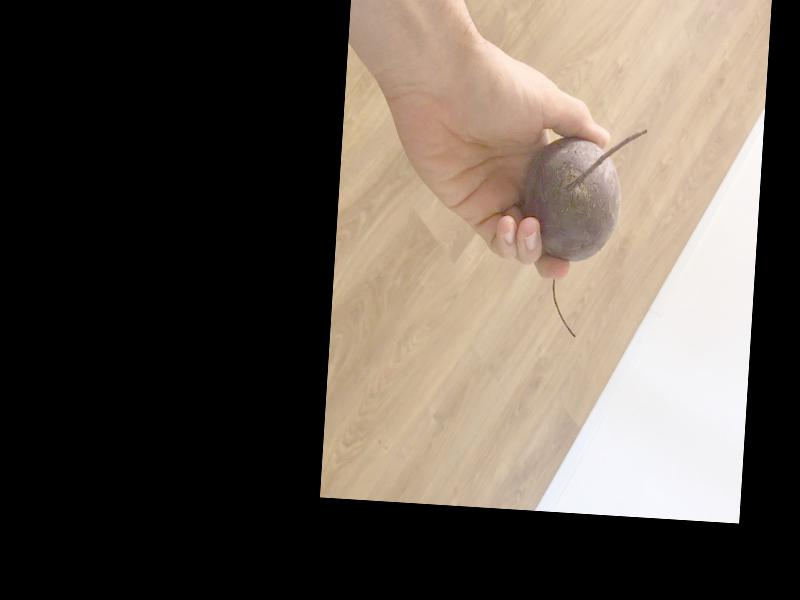Beet: (513, 123, 646, 341)
